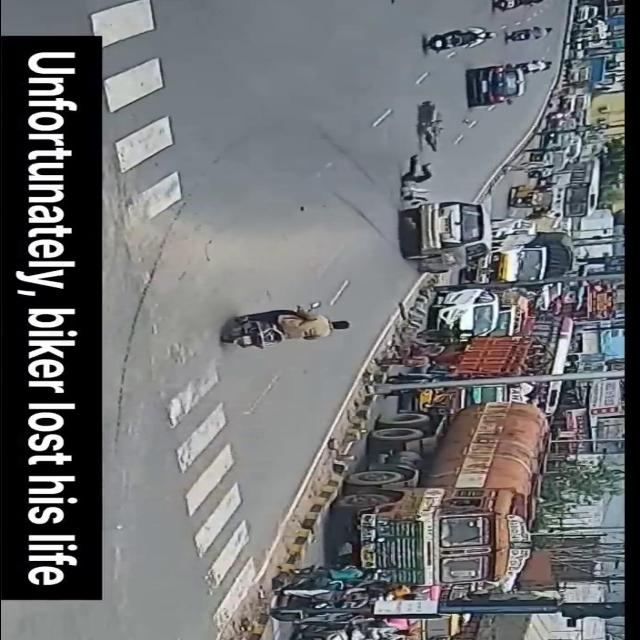accident: (382, 156, 498, 280), (406, 93, 458, 155)
non_accident: (270, 397, 554, 640), (521, 0, 632, 202), (385, 287, 579, 397), (457, 201, 586, 283)
